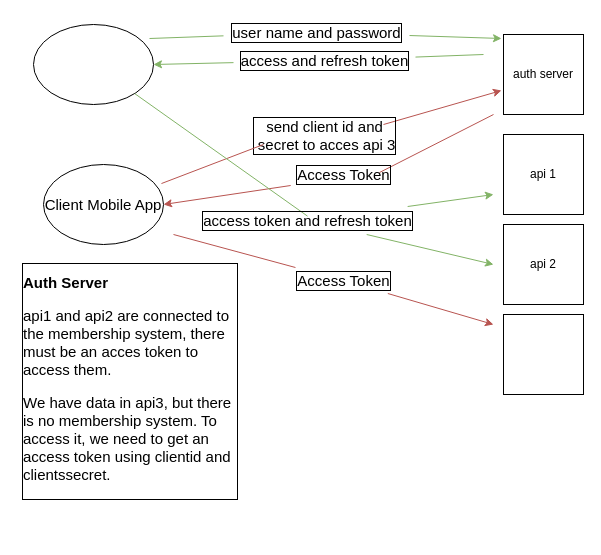
This 601x555 diagram has some shape labels left out. Each missing label, with the box of its shape:
api 1 or api 2 user: (32, 24, 154, 104)
api 3: (502, 314, 584, 394)
